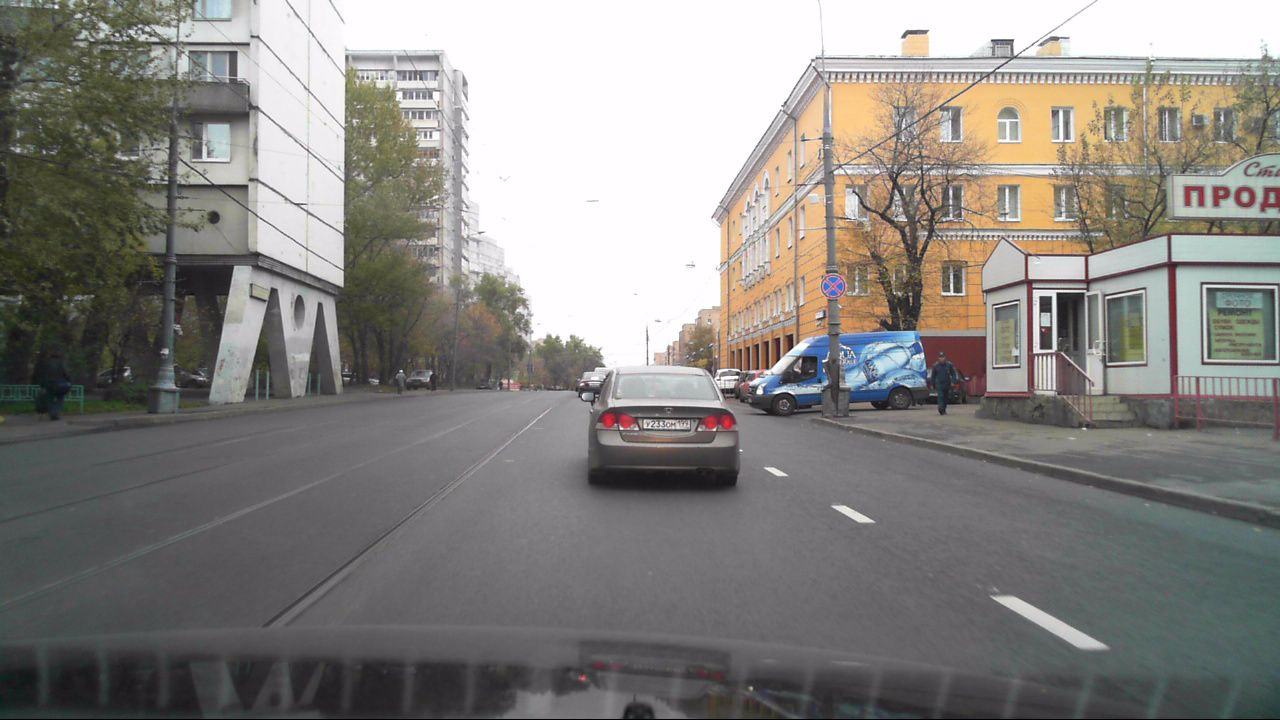No Parking: (821, 274, 844, 298)
